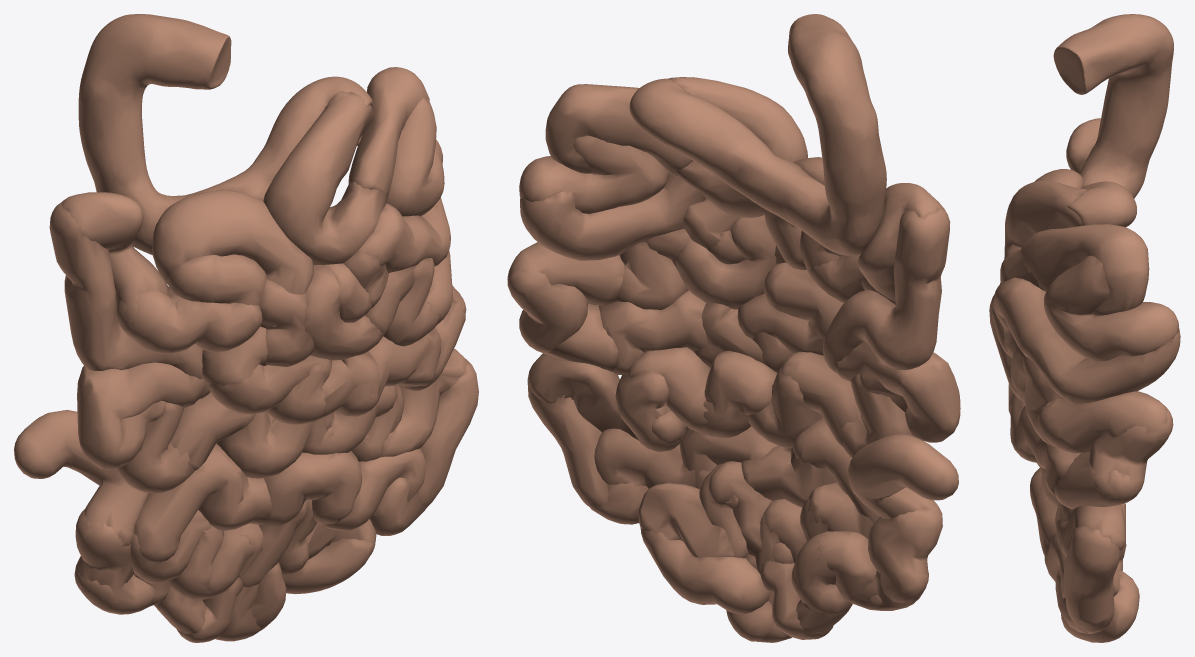
The model's file is explorar-small_intestine.glb.
3 renders of one model, left to right at view 1: azimuth 30°, elevation 25°; view 2: azimuth 150°, elevation 25°; view 3: azimuth 270°, elevation 25°, orthographic. The views are drawn at different scales.
Visible parts, largest first — view 1: small_intestine__yeyuno, small_intestine__ileon, small_intestine__duodeno; view 2: small_intestine__ileon, small_intestine__yeyuno, small_intestine__duodeno; view 3: small_intestine__yeyuno, small_intestine__duodeno, small_intestine__ileon.
Part boxes in pixels (bbox=[...]): small_intestine__yeyuno: bbox=[49, 67, 466, 424]; small_intestine__ileon: bbox=[14, 348, 478, 642]; small_intestine__duodeno: bbox=[78, 14, 373, 254]; small_intestine__ileon: bbox=[527, 341, 960, 642]; small_intestine__yeyuno: bbox=[507, 77, 950, 374]; small_intestine__duodeno: bbox=[629, 14, 886, 255]; small_intestine__yeyuno: bbox=[989, 118, 1180, 509]; small_intestine__duodeno: bbox=[1053, 14, 1173, 227]; small_intestine__ileon: bbox=[1030, 462, 1139, 642].
Size of the model in its own units: 0.2017 by 0.2755 by 0.0816.
